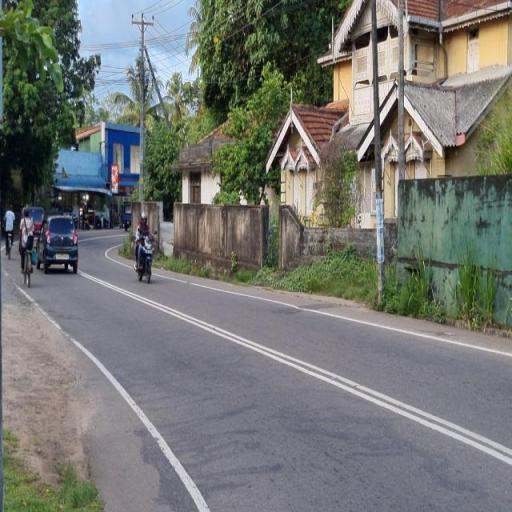double_white_line: (139, 286, 508, 469), (287, 110, 322, 170)
